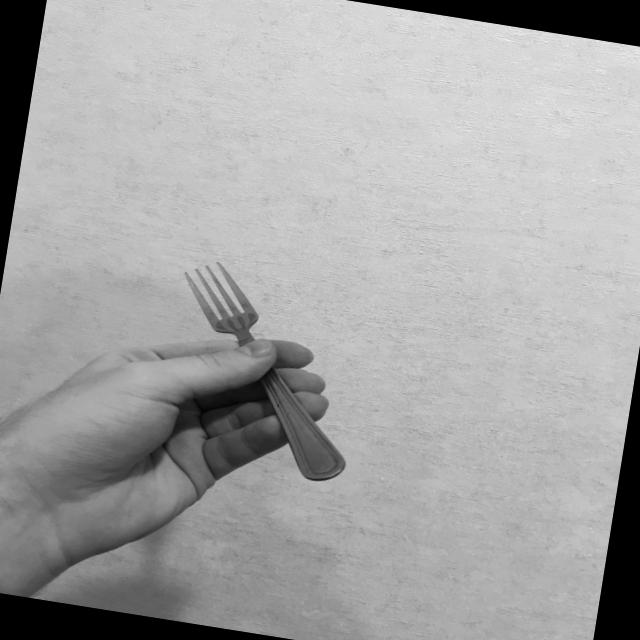fork: (152, 254, 374, 486)
